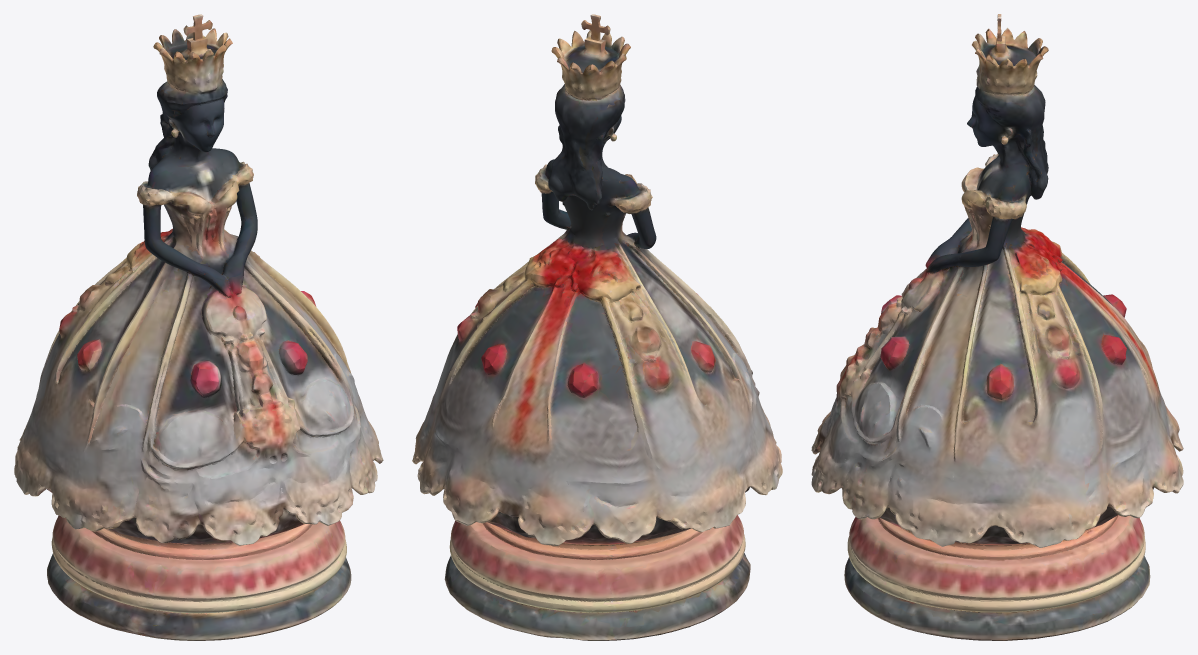
The model's file is queen_black.glb.
3 renders of one model, left to right at view 1: azimuth 30°, elevation 25°; view 2: azimuth 150°, elevation 25°; view 3: azimuth 270°, elevation 25°, orthographic.
Visible parts, largest first — view 1: model; view 2: model; view 3: model.
Part boxes in pixels (x1,y1,x2,y2): model: [14, 14, 383, 640]; model: [412, 14, 782, 640]; model: [811, 14, 1183, 640].
Size of the model in its own units: 1.11 by 1.9 by 1.14.
1 material, 1 textured.
